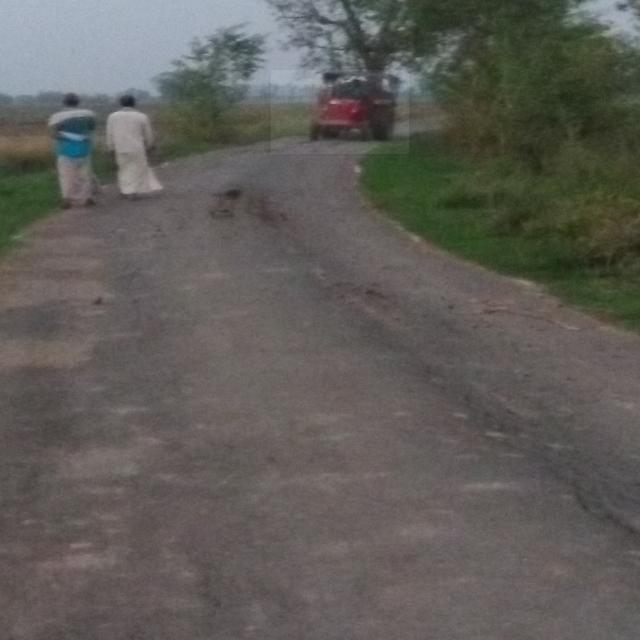Tractot: (271, 70, 409, 154)
